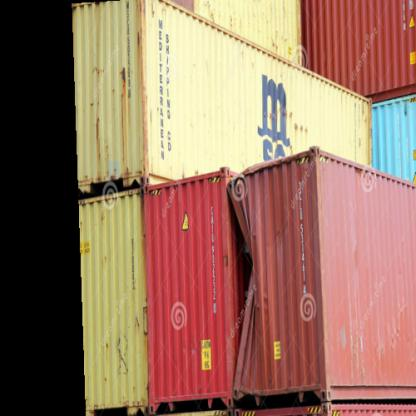Damage: (205, 211, 265, 327)
